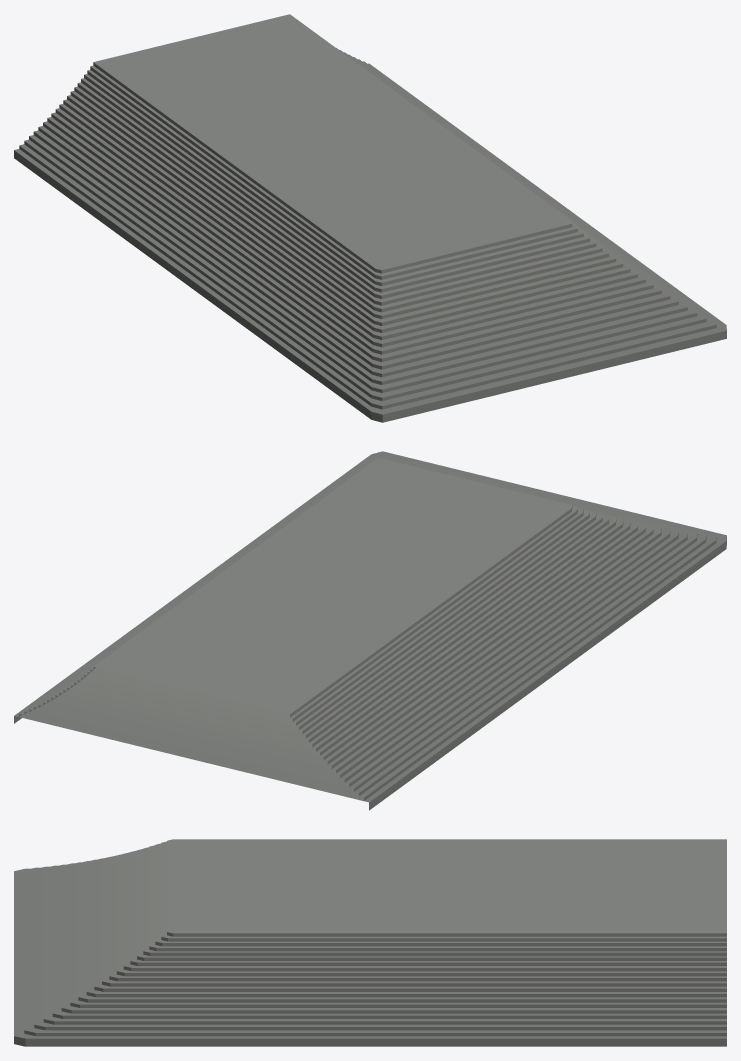
3 views of the same model, one above another, from view 1: azimuth 30°, elevation 25°; view 2: azimuth 150°, elevation 25°; view 3: azimuth 270°, elevation 25° (orthographic).
Visible parts, largest first — view 1: Stairs2_0; view 2: Stairs2_0; view 3: Stairs2_0.
Part boxes in pixels (x1,y1,x2,y2): Stairs2_0: (14,14,726,422); Stairs2_0: (14,451,726,810); Stairs2_0: (14,839,726,1046).
Bounding box in the file's own units: 32.52 × 6.71 × 57.6.
Materials: 1 (1 with a texture image).
